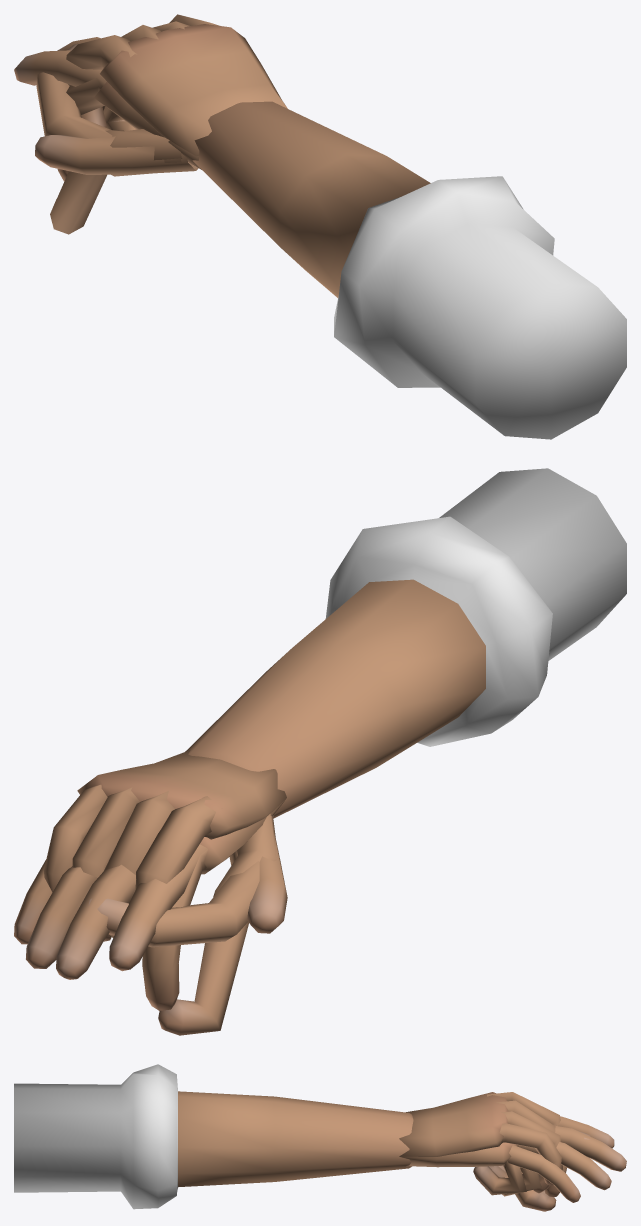
Rendered from fp_arm_r.glb.
The picture shows the model from 3 angles, top to bottom: view 1: azimuth 30°, elevation 25°; view 2: azimuth 150°, elevation 25°; view 3: azimuth 270°, elevation 25°; orthographic projection. The views are drawn at different scales.
Parts seen in each view (by area): view 1: Forearm_R, HandGrip_R, HandOpen_R, HandPinch_R; view 2: Forearm_R, HandGrip_R, HandOpen_R, HandPinch_R; view 3: Forearm_R, HandGrip_R, HandOpen_R, HandPinch_R.
Boxes of the visible parts, bbox=[...] form: Forearm_R: bbox=[192, 101, 626, 439]; HandGrip_R: bbox=[36, 14, 287, 176]; HandOpen_R: bbox=[14, 37, 201, 174]; HandPinch_R: bbox=[50, 78, 192, 234]; Forearm_R: bbox=[185, 468, 626, 818]; HandGrip_R: bbox=[44, 750, 286, 947]; HandOpen_R: bbox=[14, 798, 287, 979]; HandPinch_R: bbox=[109, 814, 276, 1035]; Forearm_R: bbox=[14, 1064, 413, 1209]; HandGrip_R: bbox=[399, 1092, 590, 1193]; HandOpen_R: bbox=[399, 1116, 626, 1202]; HandPinch_R: bbox=[473, 1161, 566, 1211].
Bounding box in the file's own units: 0.1368 × 0.1396 × 0.4931.
